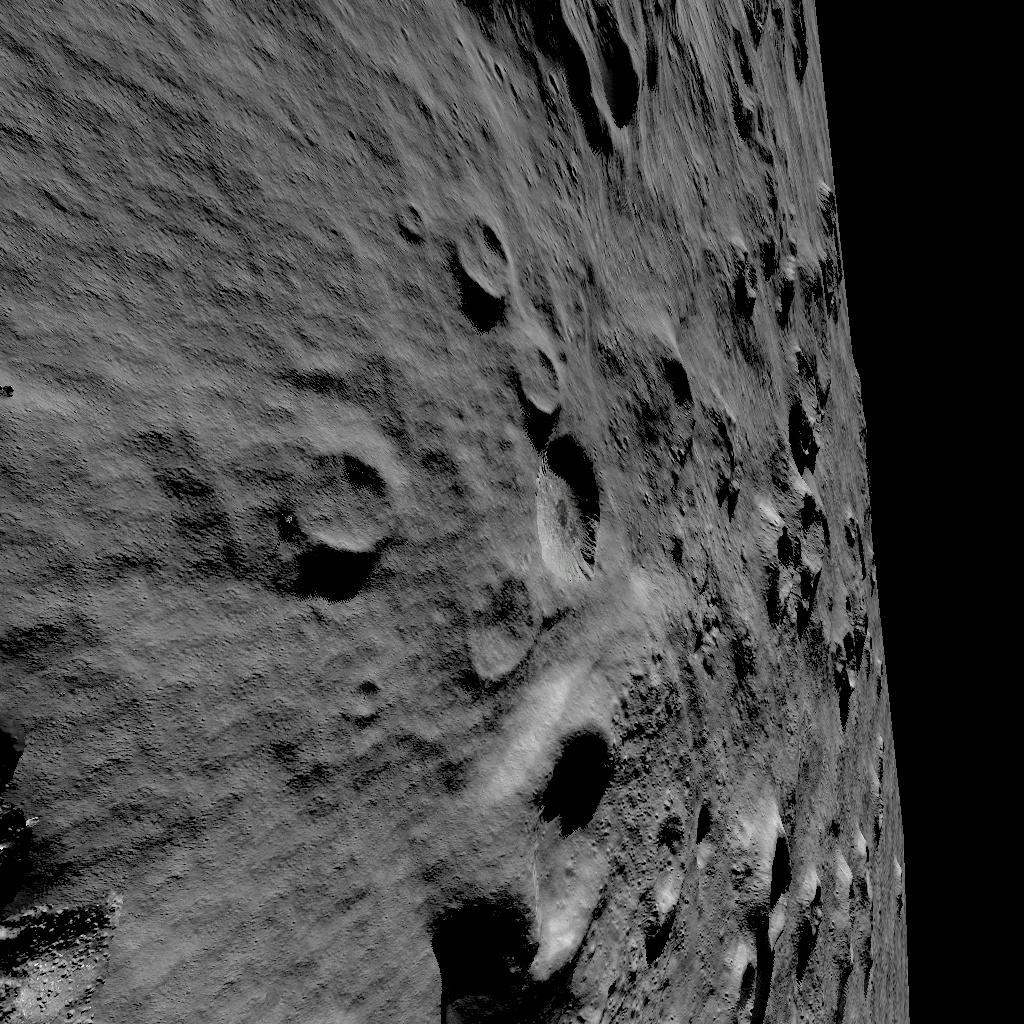Boulders: (0, 702, 126, 1024), (451, 0, 700, 155)
Crater: (446, 672, 628, 1024), (454, 210, 610, 585), (648, 782, 886, 1024), (766, 348, 878, 708), (728, 180, 846, 335), (638, 355, 742, 505), (721, 0, 820, 145), (288, 445, 398, 568)
Plan surface: (0, 0, 435, 433), (141, 700, 433, 1024), (0, 445, 276, 690)
